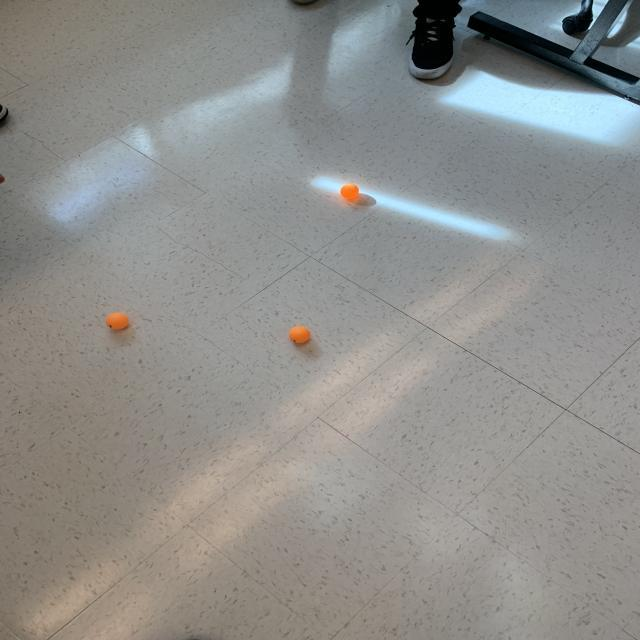ping-pong-ball: (286, 323, 314, 347), (104, 309, 132, 332), (338, 178, 362, 204)
